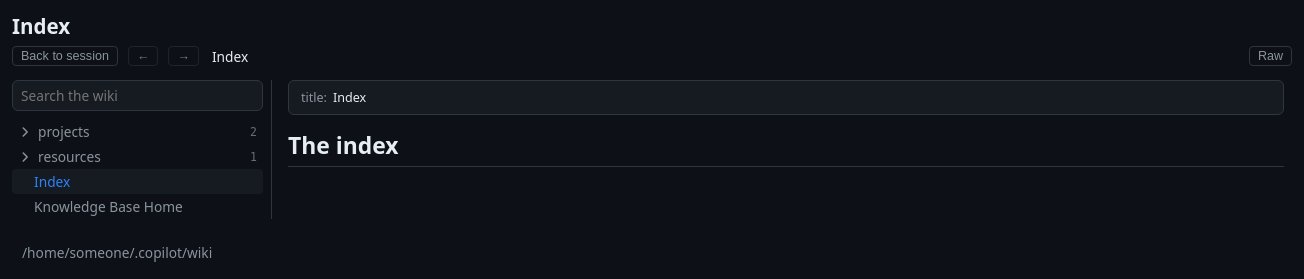
Test case: showing a page as the file it is › goes back to reading when the toggle is pressed again
Click the button "Raw" at (1270, 56), box [1249,46,1292,66]
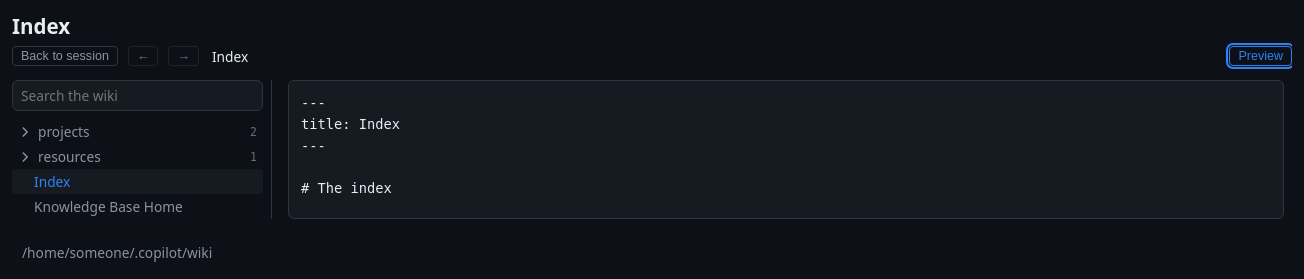
Click the button "Preview" at (1261, 56), box [1229,46,1292,66]
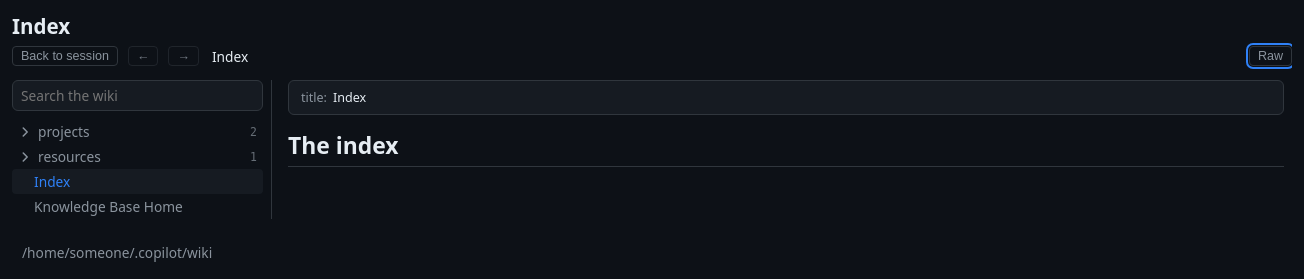
expect the heading "The index" is shown: met, box [288,131,1284,167]
